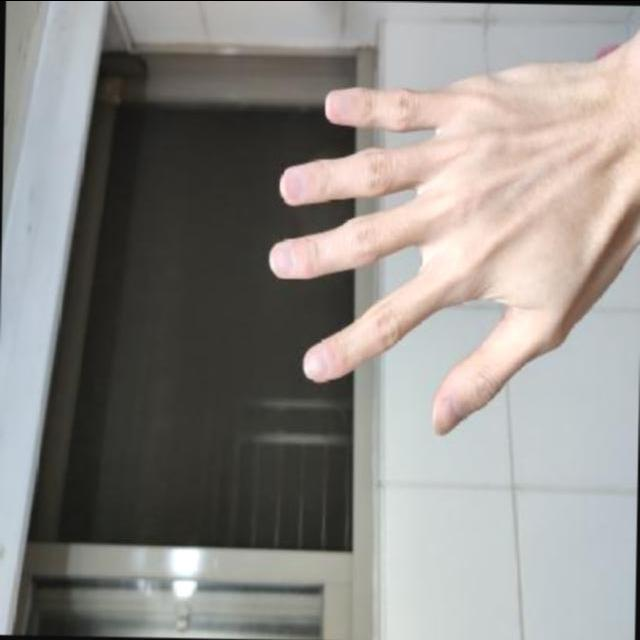hand: (269, 38, 640, 441)
